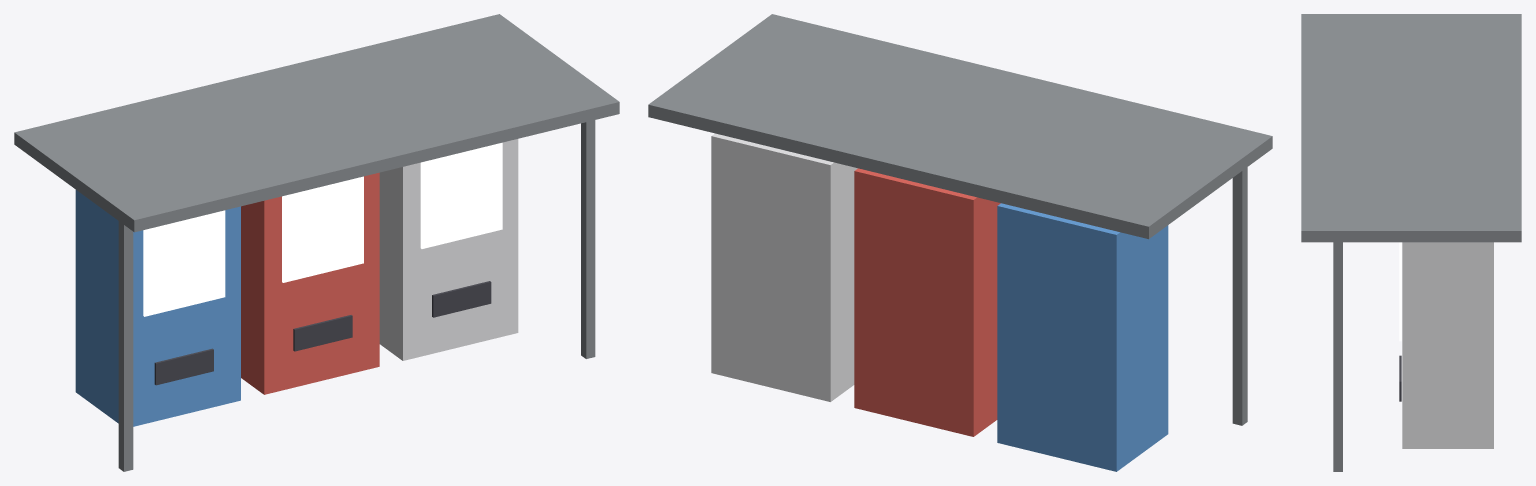
File: vending_machine_trio_canopy.glb
The picture shows the model from 3 angles, left to right: view 1: azimuth 30°, elevation 25°; view 2: azimuth 150°, elevation 25°; view 3: azimuth 270°, elevation 25°; orthographic projection. The views are drawn at different scales.
Visible parts, largest first — view 1: vending_machine_trio_canopy; view 2: vending_machine_trio_canopy; view 3: vending_machine_trio_canopy.
Boxes of the visible parts, left/top/right/bottom form: vending_machine_trio_canopy: left=14, top=14, right=619, bottom=471; vending_machine_trio_canopy: left=648, top=14, right=1272, bottom=471; vending_machine_trio_canopy: left=1301, top=14, right=1521, bottom=471.
Size of the model in its own units: 4.2 by 2.2 by 1.8.
